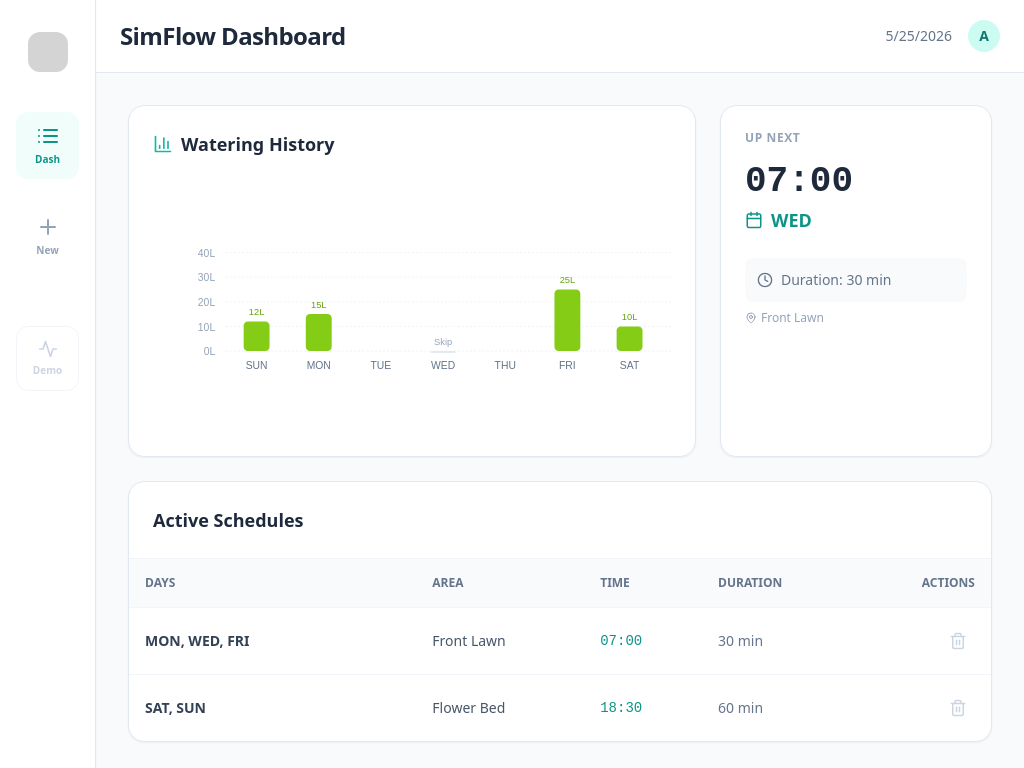
Test: Navigation › switches back to dashboard when clicking Dash button
Go to add form
Click the button "New".
click(48, 236)  # box [16,203,79,270]
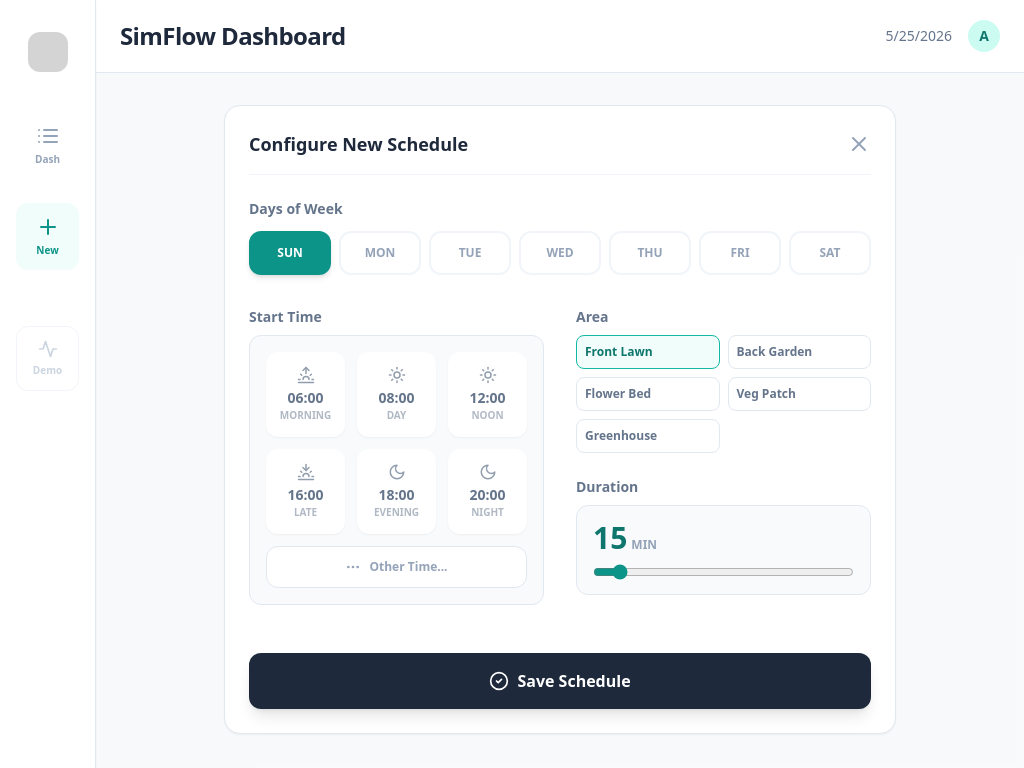
Expected: the heading "Configure New Schedule" is shown, [249,130,468,158]
Click the Dash button to go back
Click the button "Dash".
click(48, 146)  # box [16,112,79,179]
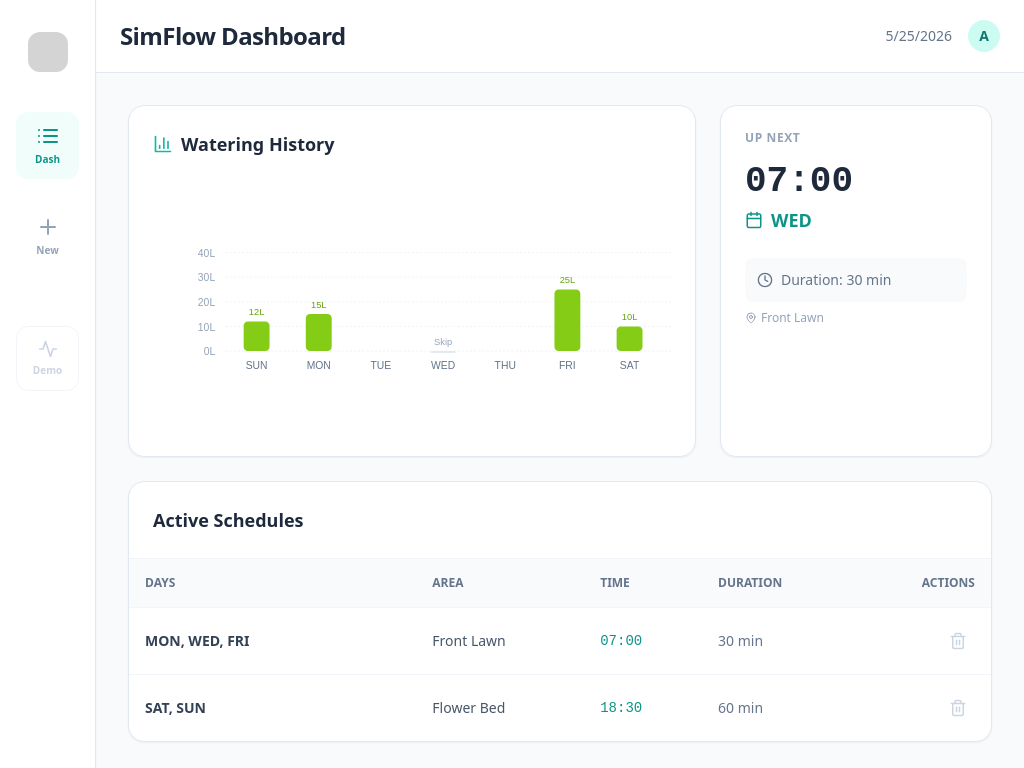
Expected: the heading "Active Schedules" is shown, [153,508,304,532]
